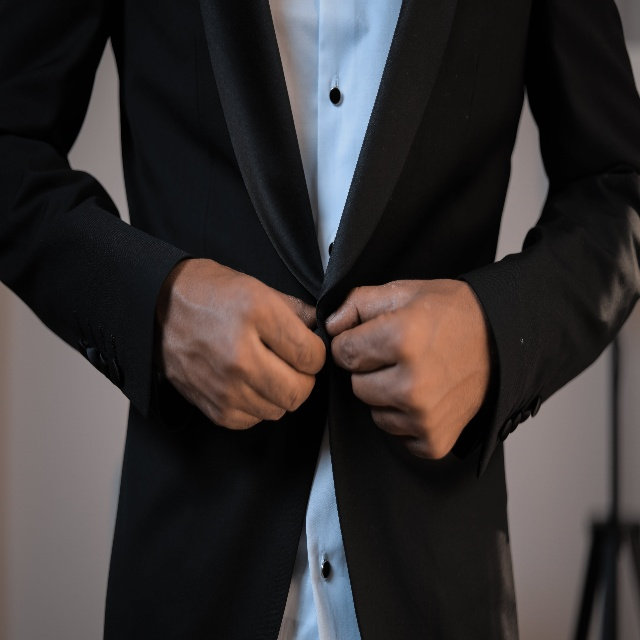Sin_guantes: (154, 254, 328, 438), (324, 280, 496, 461)
